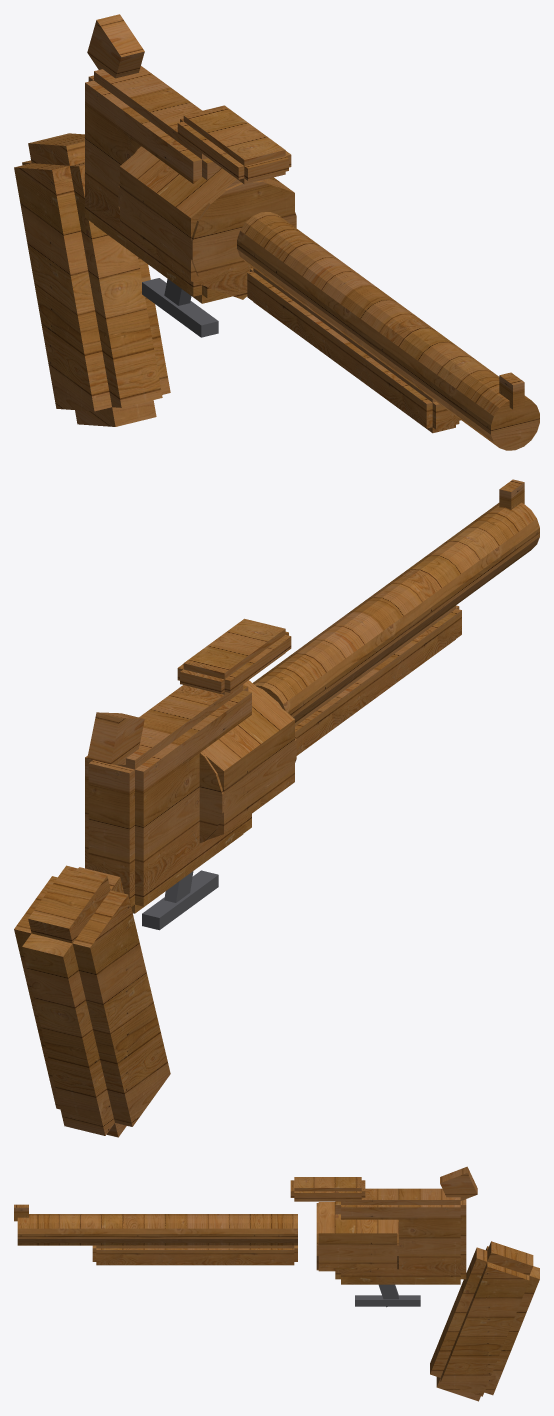
The model's file is revolver.glb.
The picture shows the model from 3 angles, top to bottom: view 1: azimuth 30°, elevation 25°; view 2: azimuth 150°, elevation 25°; view 3: azimuth 270°, elevation 25°; orthographic projection. The views are drawn at different scales.
Visible parts, largest first — view 1: revolver; view 2: revolver; view 3: revolver.
Boxes of the visible parts, x1,y1,x2,y2 form: revolver: [14, 14, 539, 450]; revolver: [14, 479, 539, 1137]; revolver: [14, 1166, 539, 1401].
Bounding box in the file's own units: 0.0355 × 0.1336 × 0.2814.
2 materials, 1 textured.
